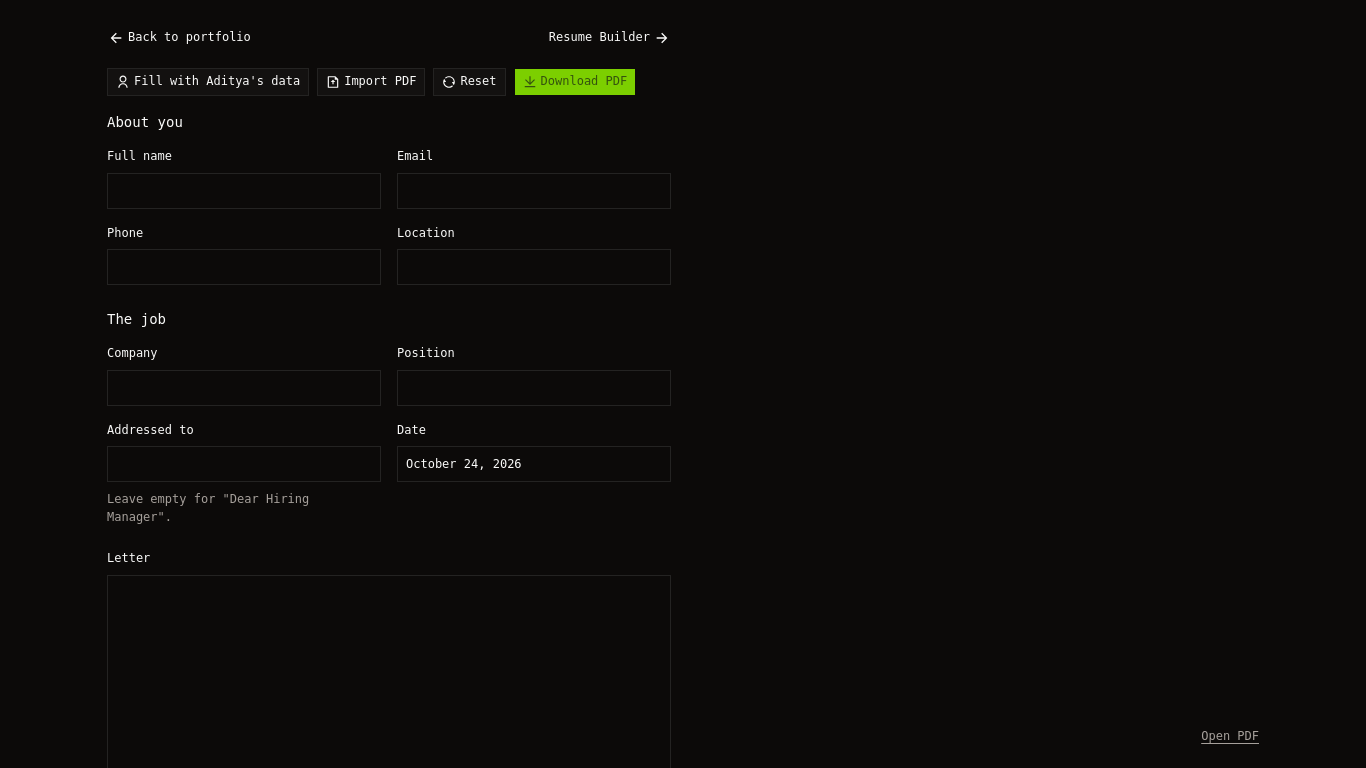
CoverLetterPage › resets to a fresh letter after confirming
The width and height of the screenshot is (1366, 768).
Type "Acme" into the field labelled "Company" at (244, 388), box x1=107 y1=370 x2=381 y2=406
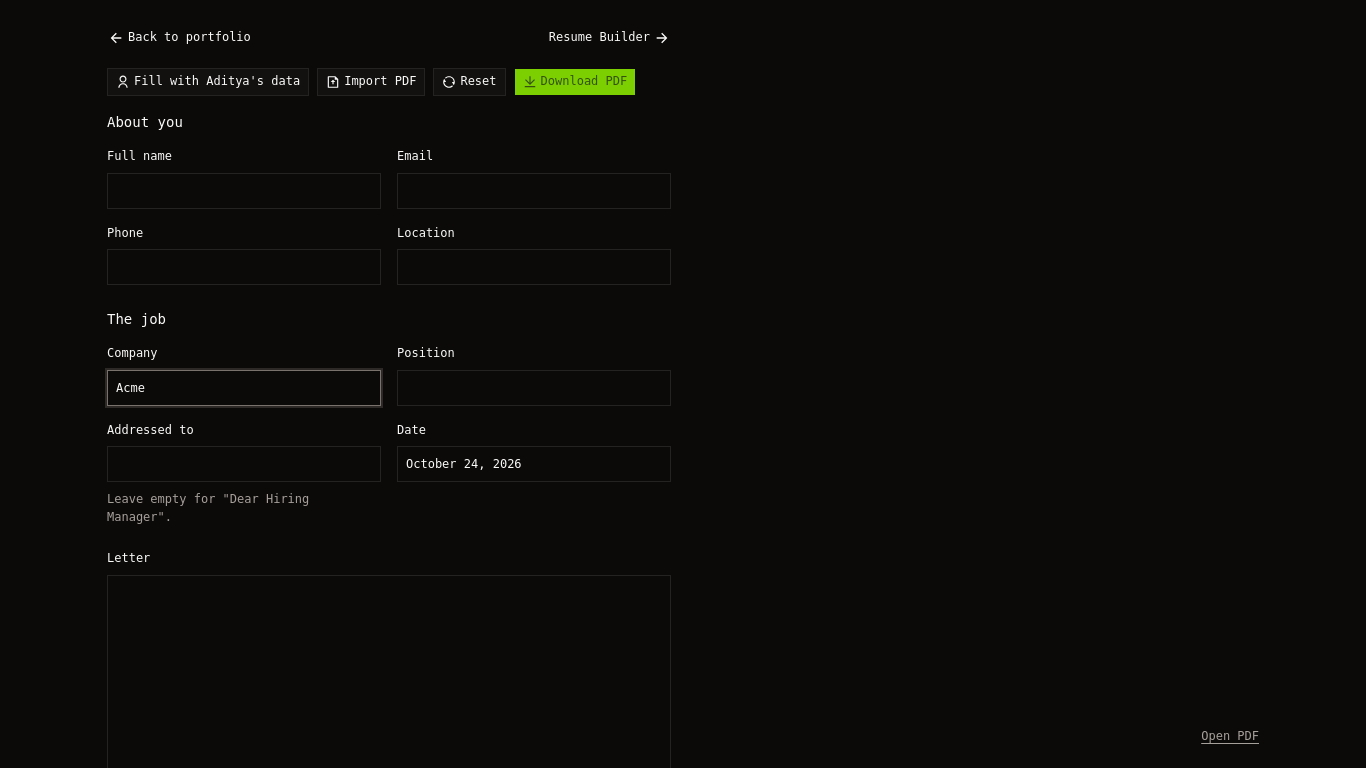
Click the button "Reset" at (469, 82), box x1=433 y1=68 x2=506 y2=96
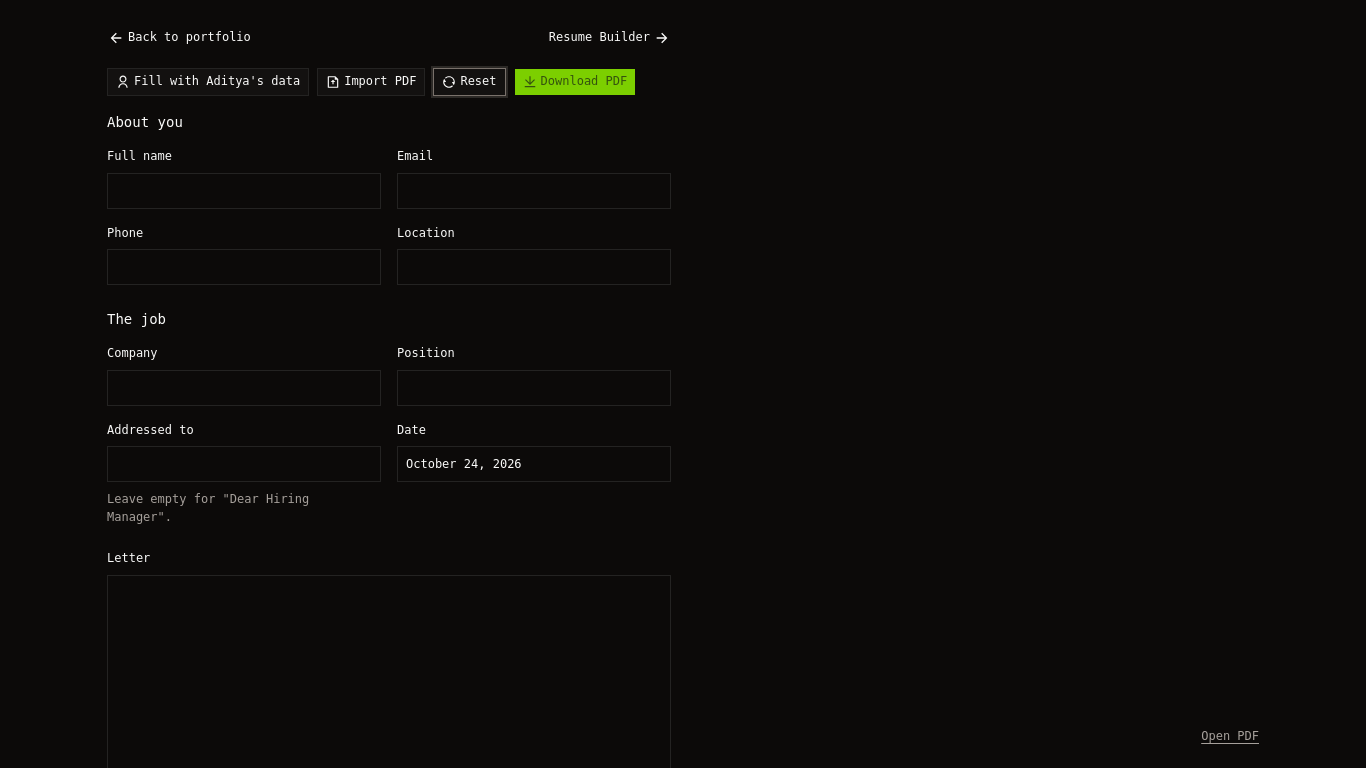
Expected: the field labelled "Company" is empty, x1=107 y1=370 x2=381 y2=406
